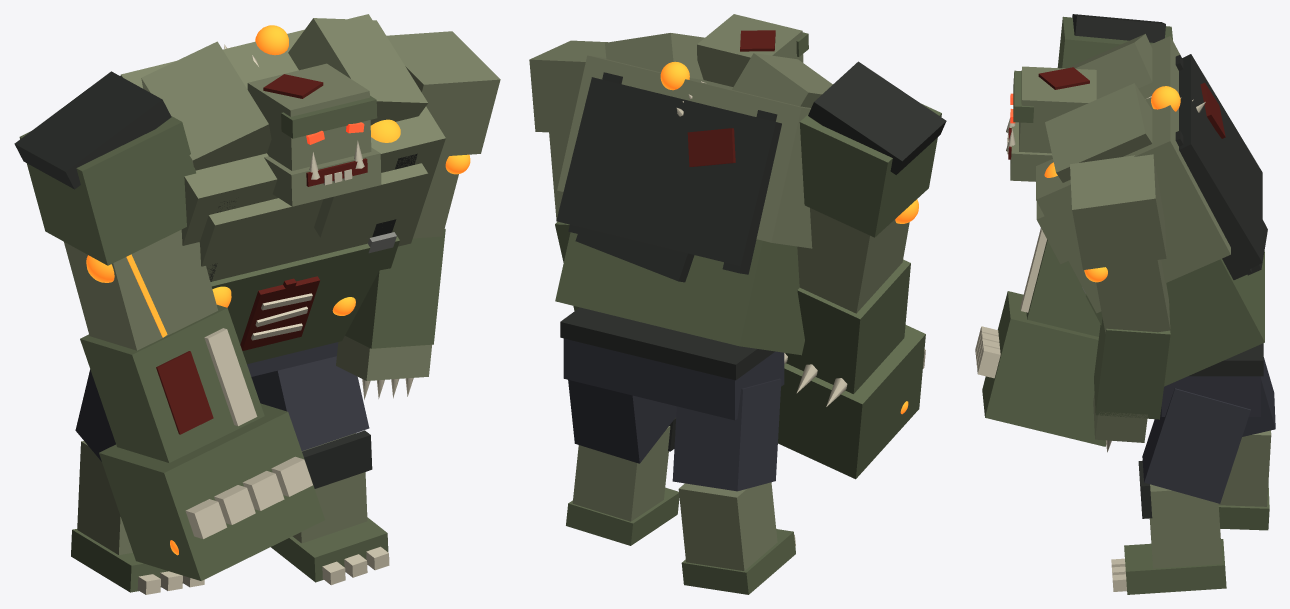
Rendered from zombie-el-tanque.glb.
3 renders of one model, left to right at view 1: azimuth 30°, elevation 25°; view 2: azimuth 150°, elevation 25°; view 3: azimuth 270°, elevation 25°, orthographic. The views are drawn at different scales.
Parts seen in each view (by area): view 1: puno, hombro_der, pecho, antebrazo_der_m, biceps_der, trapecio_der, hombrera_rota, barriga, hombro_izq, trapecio_izq, antebrazo_izq_m, muslo_izq (+24 smaller); view 2: chaleco_espalda, barriga, puno, pecho, hombro_der, muslo_der, antebrazo_der_m, cadera, hombrera_rota, biceps_der, espinilla_der, cinturon (+13 smaller); view 3: puno, pecho, hombro_izq, chaleco_espalda, barriga, muslo_izq, trapecio_izq, antebrazo_izq_m, espinilla_izq, biceps_izq, antebrazo_der_m, craneo (+20 smaller).
Part boxes in pixels (x1,y1,x2,y2): puno: (99, 403, 325, 580); hombro_der: (19, 116, 195, 265); pecho: (120, 14, 445, 281); antebrazo_der_m: (80, 304, 264, 462); biceps_der: (64, 229, 217, 350); trapecio_der: (141, 41, 271, 170); hombrera_rota: (14, 71, 171, 189); barriga: (210, 236, 399, 364); hombro_izq: (386, 31, 500, 156); trapecio_izq: (288, 18, 427, 125); antebrazo_izq_m: (345, 229, 445, 348); muslo_izq: (251, 356, 369, 450); chaleco_espalda: (556, 77, 781, 268); barriga: (555, 232, 804, 355); puno: (778, 325, 925, 479); pecho: (557, 55, 812, 248); hombro_der: (799, 103, 941, 237); muslo_der: (672, 378, 781, 491); antebrazo_der_m: (785, 259, 910, 393); cadera: (563, 338, 784, 420); hombrera_rota: (808, 61, 946, 174); biceps_der: (797, 208, 909, 313); espinilla_der: (678, 482, 777, 570); cinturon: (560, 307, 774, 380); puno: (982, 291, 1106, 446); pecho: (1036, 36, 1230, 313); hombro_izq: (1070, 154, 1166, 269); chaleco_espalda: (1179, 54, 1262, 271); barriga: (1085, 251, 1264, 386); muslo_izq: (1142, 388, 1250, 503); trapecio_izq: (1045, 83, 1152, 182); antebrazo_izq_m: (1094, 317, 1170, 419); espinilla_izq: (1149, 484, 1222, 568); biceps_izq: (1096, 259, 1170, 333); antebrazo_der_m: (1026, 239, 1100, 336); craneo: (1019, 66, 1096, 153).
Bounding box in the file's own units: 1.75 × 2.16 × 1.21.
